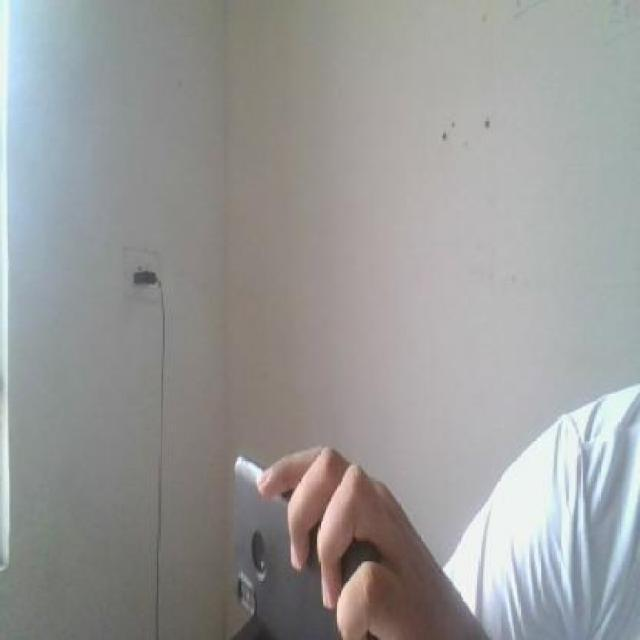Phone: (223, 450, 389, 640)
